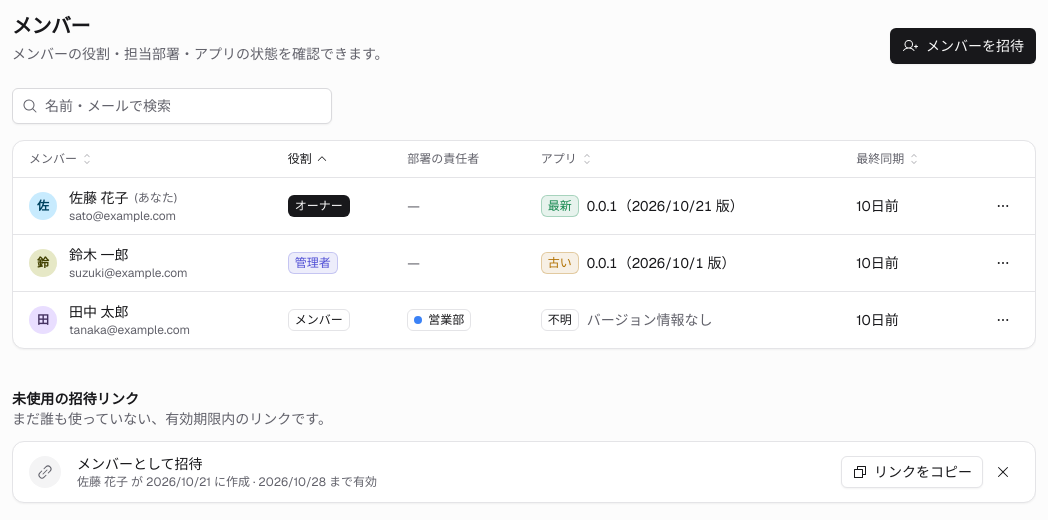
it: メンバー › filters by search text
Check: the text "田中 太郎" is shown, box [69,302,128,320]
Type "suzuki" into the search field named "メンバーを検索" at [172, 106], box [12,88,332,124]
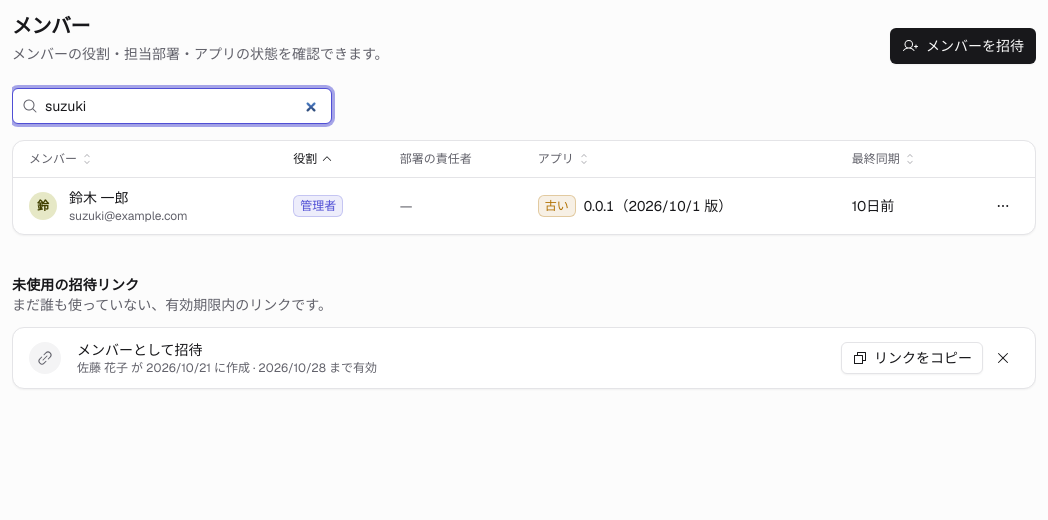
Check: the text "鈴木 一郎" is shown, box [69,188,128,206]
Check: the text "田中 太郎" is gone
